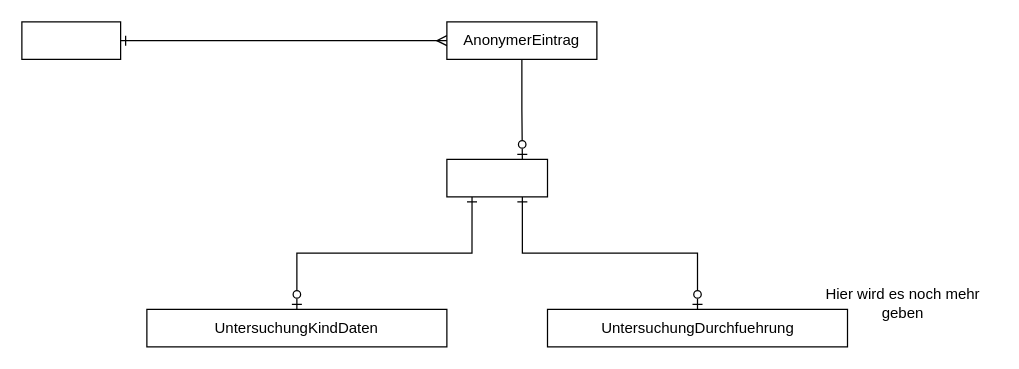
The diagram is 1019 pixels wide and 369 high, and some of its shapes have lost their labels. Each missing label, with the box of its shape:
Anlass: (21, 21, 121, 59)
Untersuchung: (446, 158, 548, 197)
